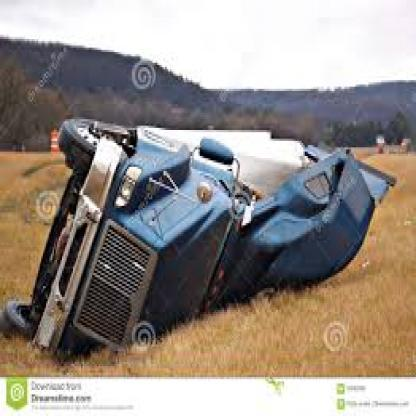accident: (0, 71, 381, 377)
